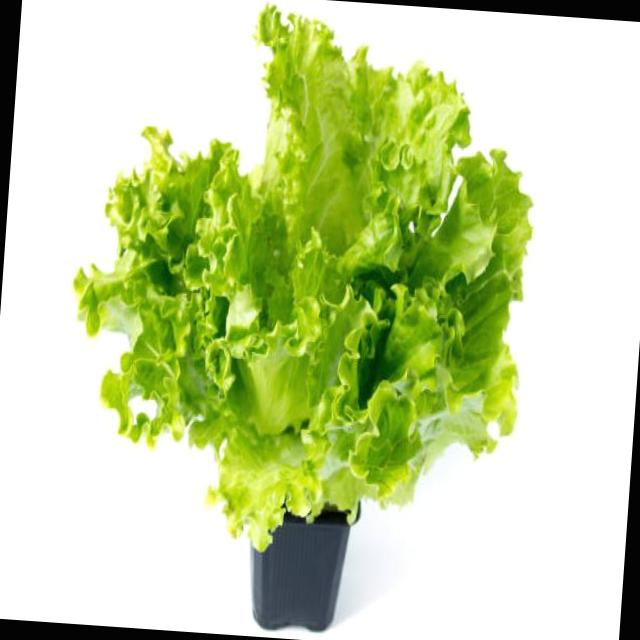Lettuce-Ready-to-Harvest: (75, 7, 531, 548)
